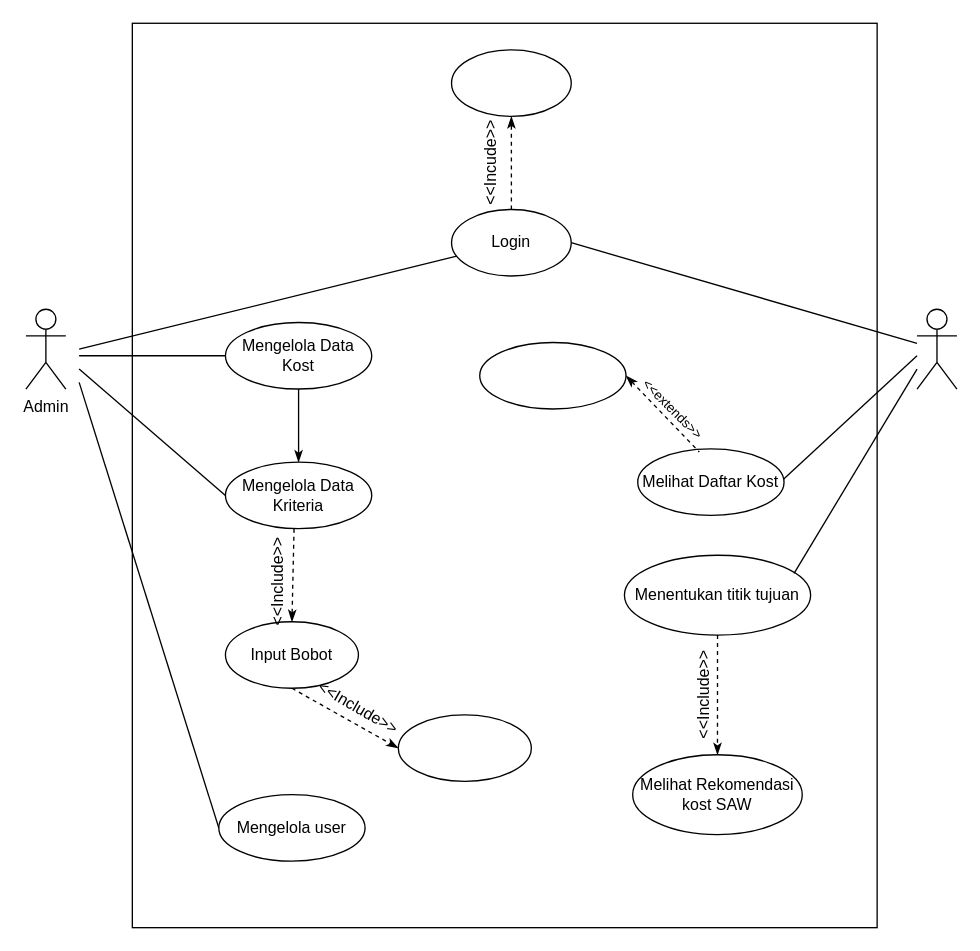
Image size: 980x951. Some labels were removed from this diagram. Here are the shapes that lost their labels. From the top down, the centre of each, then its label:
At pixel 510 82: "Register".
At pixel 936 348: "User".
At pixel 552 375: "Mencari Kost".
At pixel 464 747: "kelola sub kriteria".
